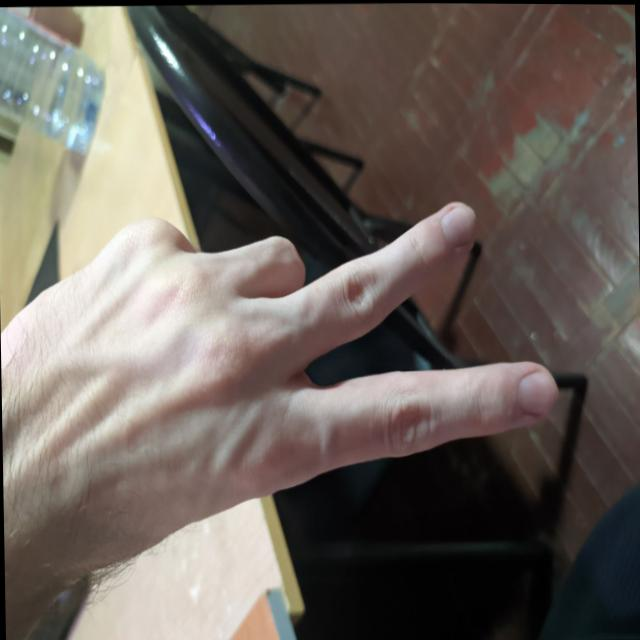l: (52, 153, 566, 557)
